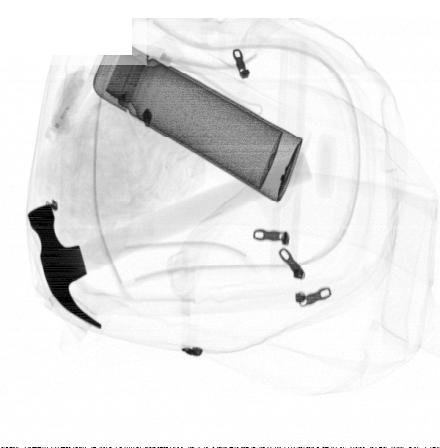Hammer: (26, 148, 315, 331)
